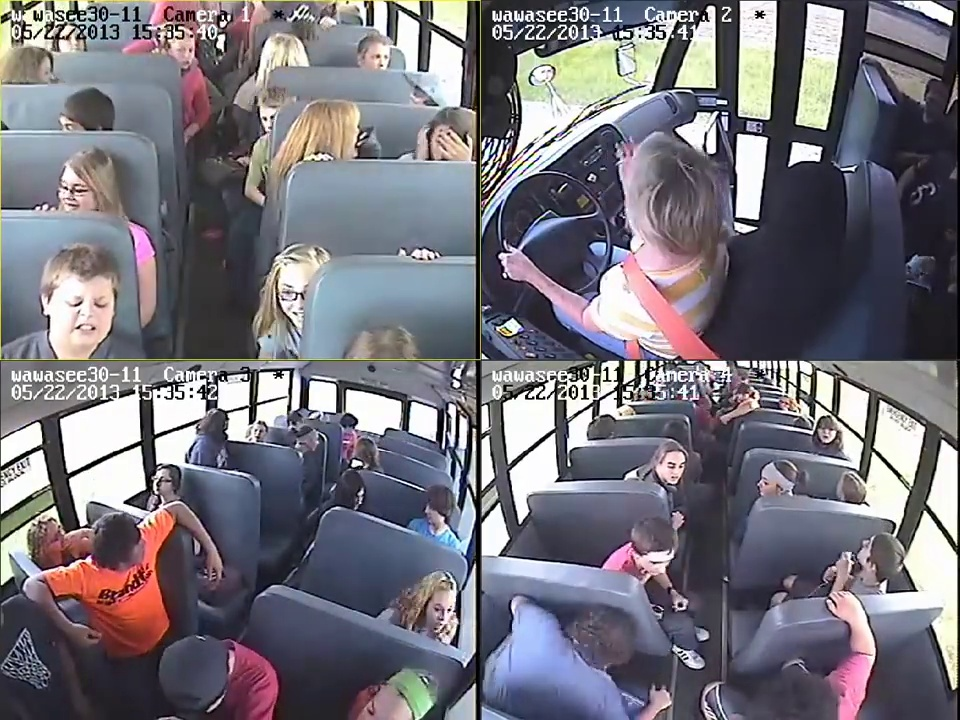face: (56, 278, 109, 337), (273, 271, 313, 323), (58, 168, 94, 211), (430, 593, 455, 632), (660, 453, 685, 483), (648, 548, 671, 580), (45, 524, 65, 555), (366, 45, 391, 69), (258, 105, 280, 132), (176, 43, 195, 69), (151, 471, 170, 494), (754, 475, 772, 495), (820, 425, 835, 443), (251, 426, 265, 442)
